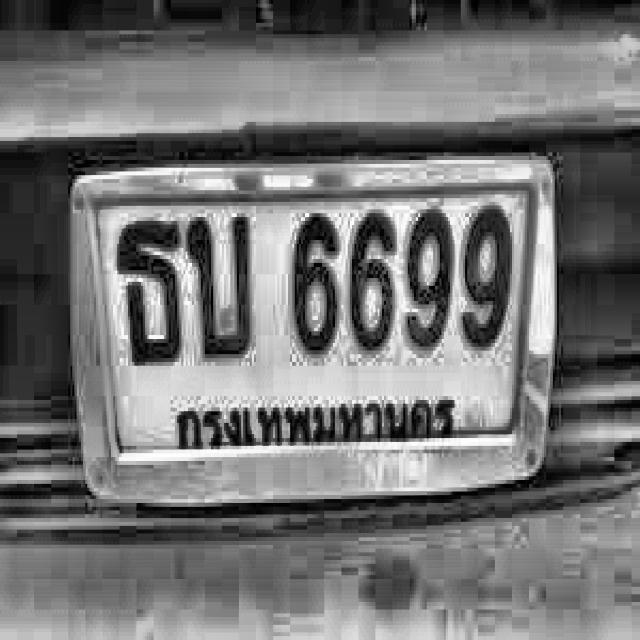license-plate: (70, 157, 557, 508)
